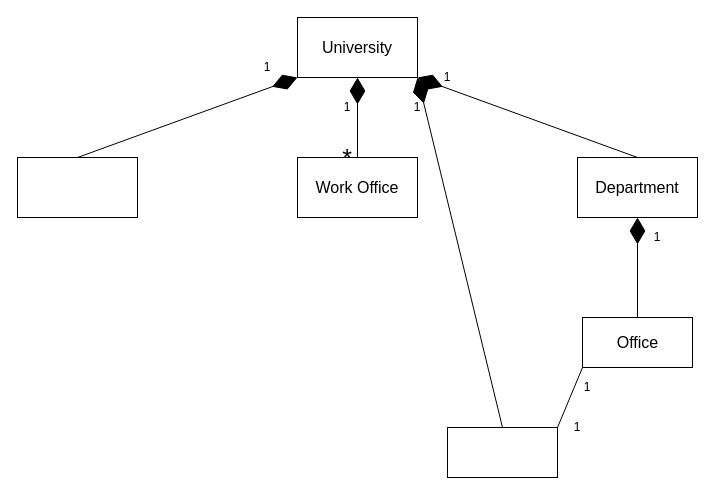
This 715x495 diagram has some shape labels left out. Each missing label, with the centre of its shape:
"Class" belongs at (77,187).
"Employee" belongs at (502,452).
